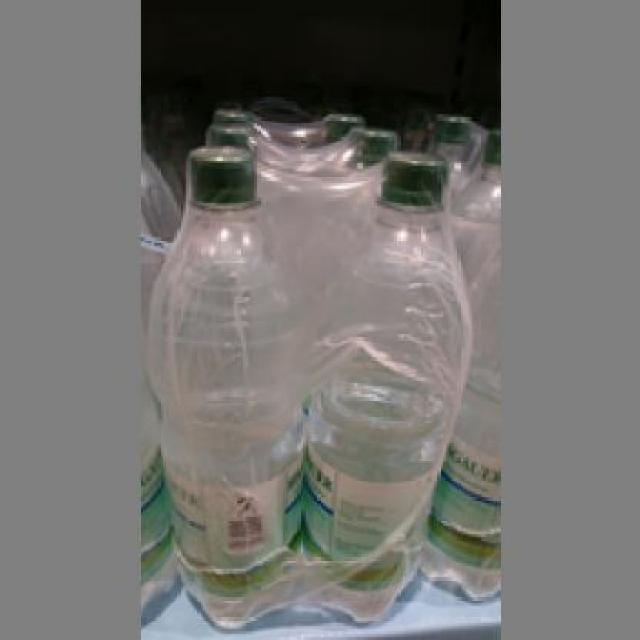Water: (286, 146, 468, 620), (146, 140, 303, 626)
